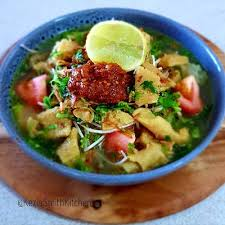soto: (6, 14, 225, 180)
